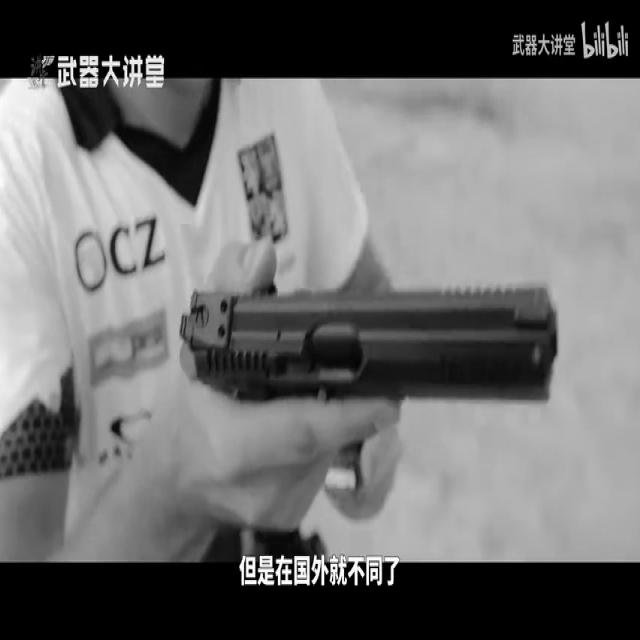Hand-Gun: (175, 268, 567, 426)
